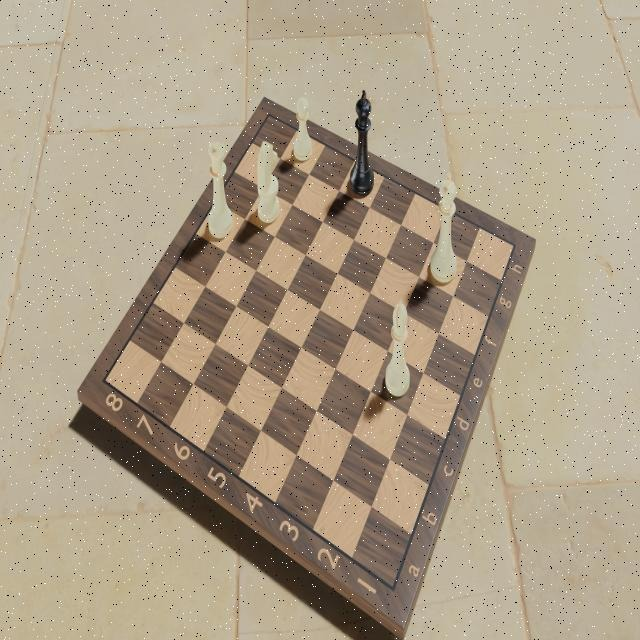black-king: (349, 87, 375, 196)
white-bishop: (384, 298, 411, 398)
white-king: (430, 170, 458, 285)
white-knight: (256, 140, 280, 224)
white-pawn: (294, 97, 314, 163)
white-queen: (207, 139, 233, 240)
